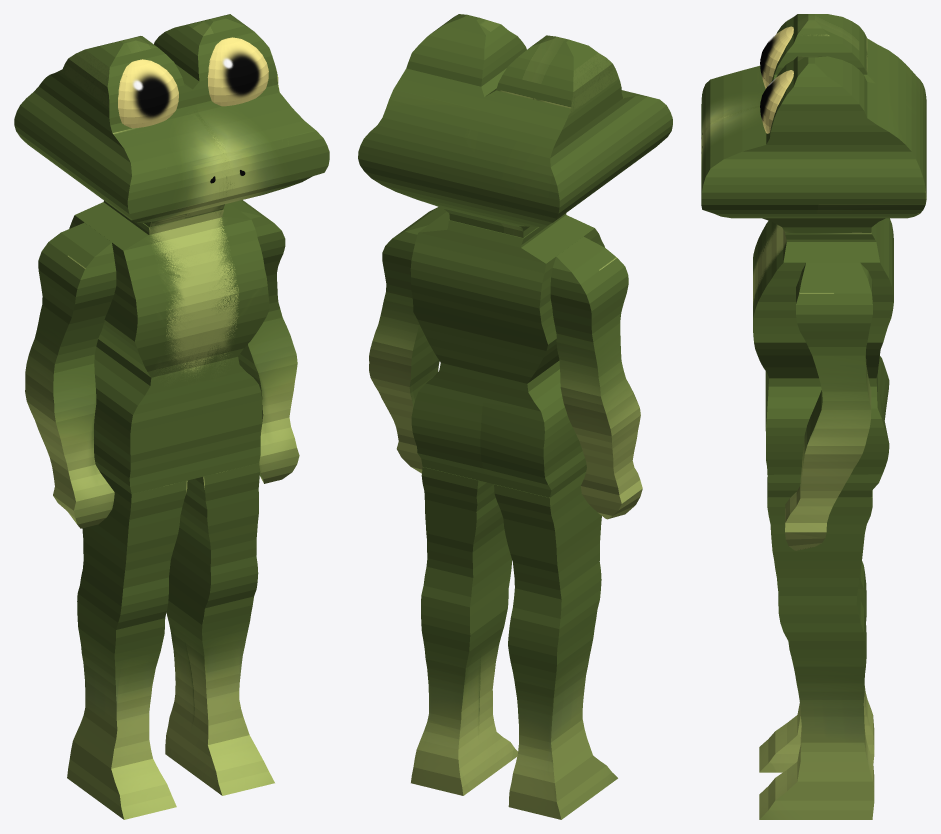
The model's file is LittleSadFrogMan.fbx.
3 renders of one model, left to right at view 1: azimuth 30°, elevation 25°; view 2: azimuth 150°, elevation 25°; view 3: azimuth 270°, elevation 25°, orthographic.
Visible parts, largest first — view 1: Legs, Body, Head, Arms, Eye Left, Eye Left.001; view 2: Legs, Head, Body, Arms; view 3: Head, Legs, Body, Arms, Eye Left.001, Eye Left.
Boxes of the visible parts, left/top/right/bottom form: Legs: left=67, top=463, right=274, bottom=819; Body: left=69, top=200, right=269, bottom=493; Head: left=14, top=14, right=329, bottom=227; Arms: left=25, top=200, right=299, bottom=528; Eye Left: left=118, top=59, right=178, bottom=128; Eye Left.001: left=207, top=37, right=268, bottom=106; Legs: left=411, top=467, right=617, bottom=819; Head: left=358, top=14, right=672, bottom=237; Body: left=410, top=212, right=604, bottom=497; Arms: left=369, top=207, right=642, bottom=519; Head: left=701, top=14, right=926, bottom=233; Legs: left=759, top=477, right=874, bottom=819; Body: left=753, top=218, right=893, bottom=497; Arms: left=785, top=262, right=872, bottom=550; Eye Left.001: left=760, top=70, right=793, bottom=133; Eye Left: left=760, top=26, right=793, bottom=88.
Size of the model in its own units: 154 by 458 by 126.
Materials: 5 (5 with a texture image).
